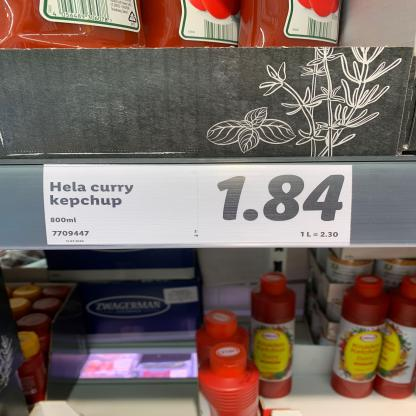prtg: (46, 165, 354, 248)
